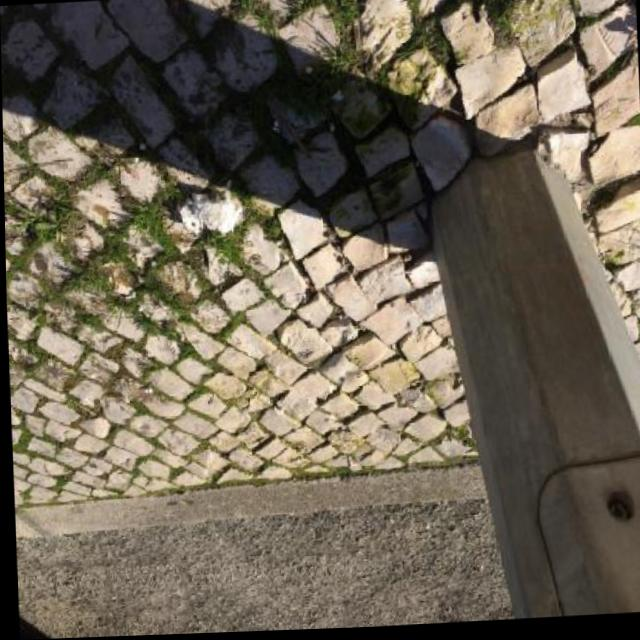foam: (178, 190, 244, 239)
